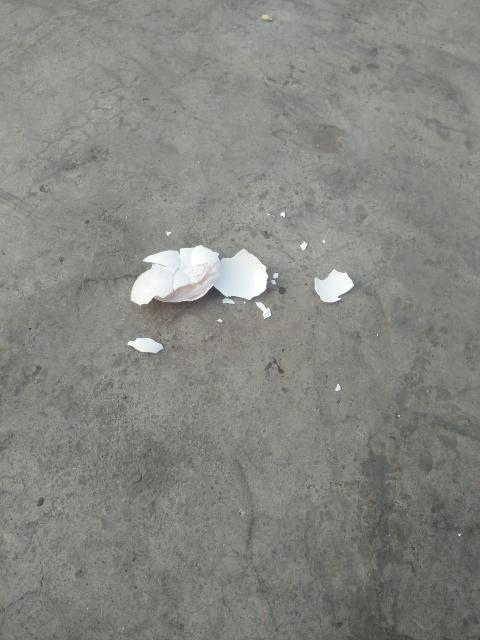Roto: (130, 244, 220, 306), (213, 247, 268, 300), (313, 268, 354, 303), (126, 336, 164, 354)
